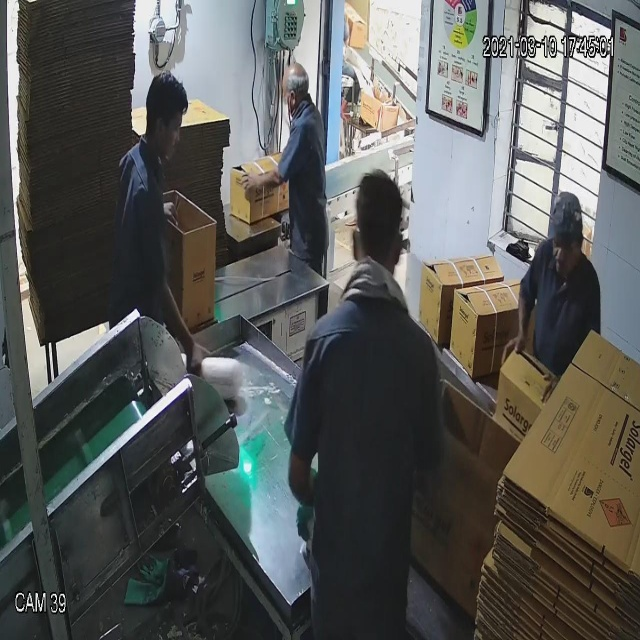Sin_guantes: (154, 252, 215, 390), (496, 276, 538, 373), (237, 155, 292, 209)
